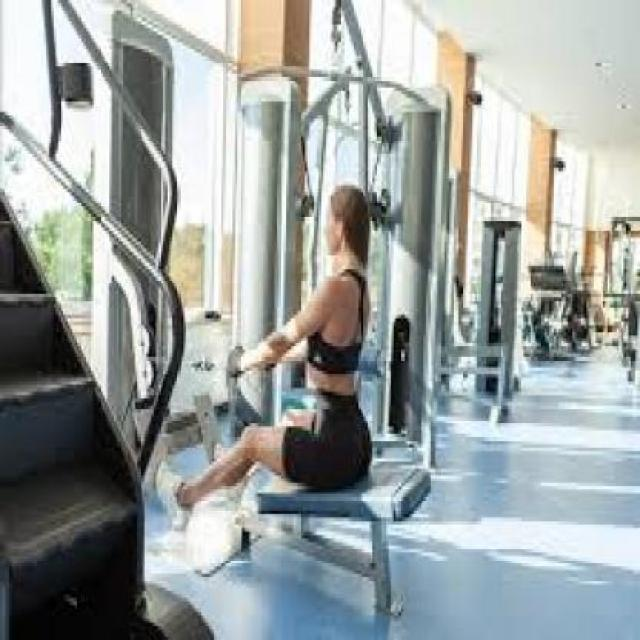Seated Cable Rows: (88, 10, 438, 628)
